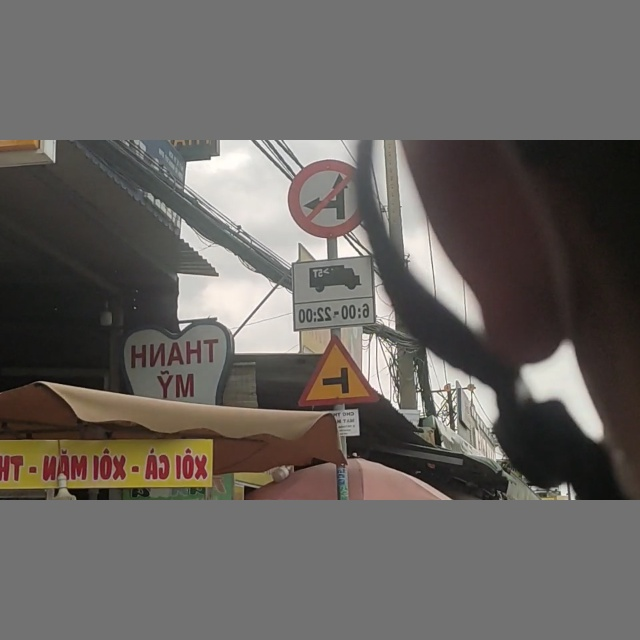P.139: (288, 160, 363, 239)
S.505a*Xe tai: (292, 257, 372, 327)
W.205b: (302, 331, 379, 403)
